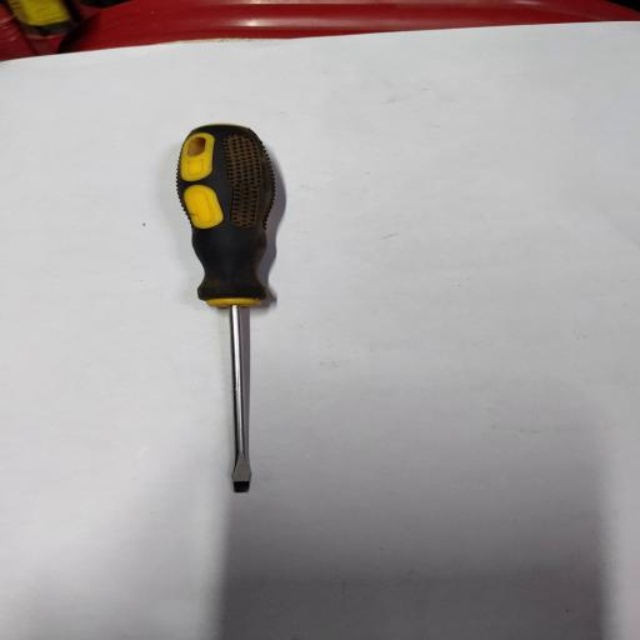screwdriver: (173, 122, 279, 498)
